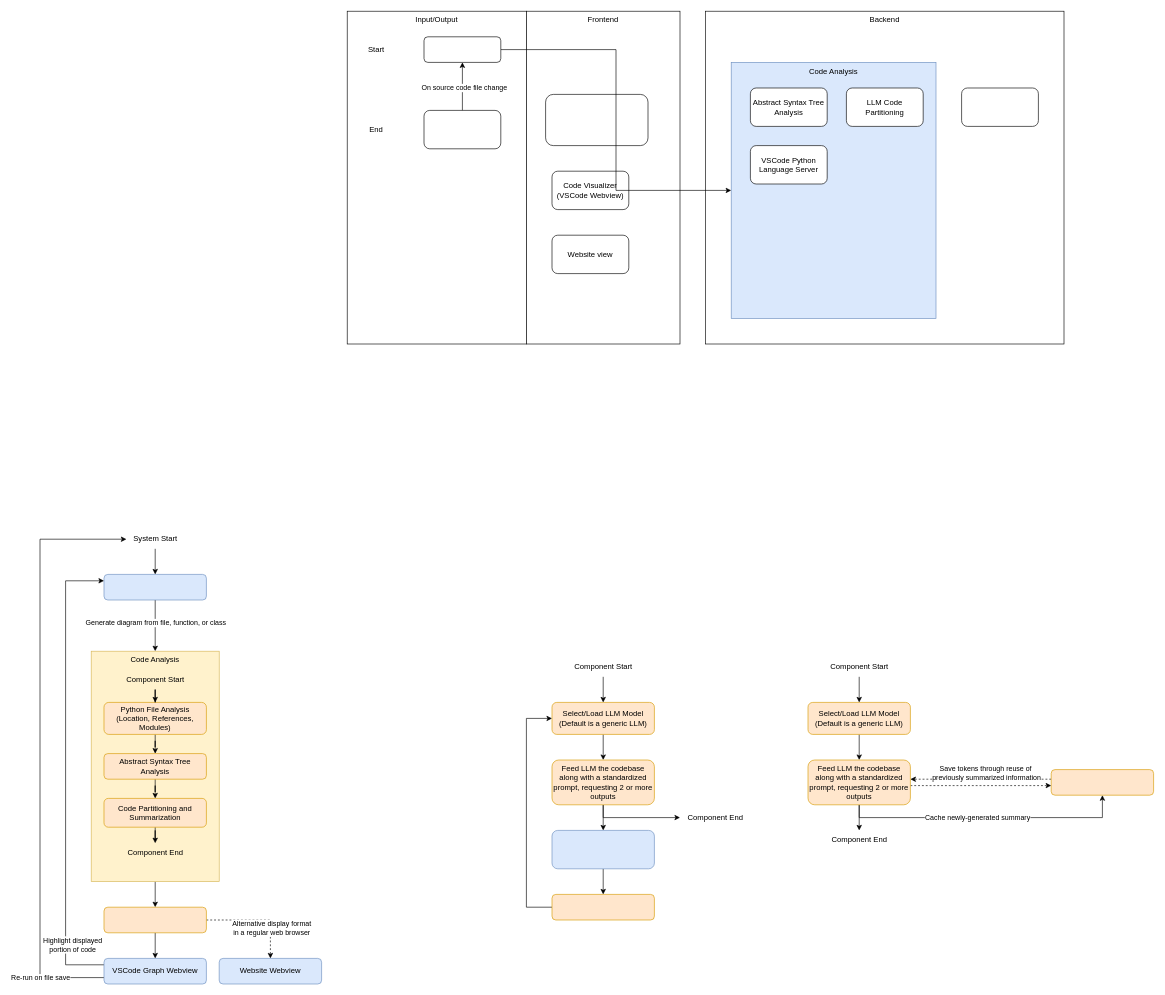
Image size: 1165x995. Some labels were removed from this diagram. Here are the shapes that lost their labels. From the top down, the centre of each, then its label:
pixel 462 49: Python codebase, opened in VSCode
pixel 596 120: Graph Interactions with source code - code lensing, highlighting
pixel 999 106: Generate graph contents as JSON
pixel 462 129: Generated code visualization diagrams
pixel 154 587: Opened Python Project (Default VSCode view)
pixel 1102 782: Partition Cache
pixel 602 849: Manually choose the better diagram using the VSCode Graph Webview component
pixel 154 920: JSON-format Graph Generator
pixel 602 907: Save tuned model
